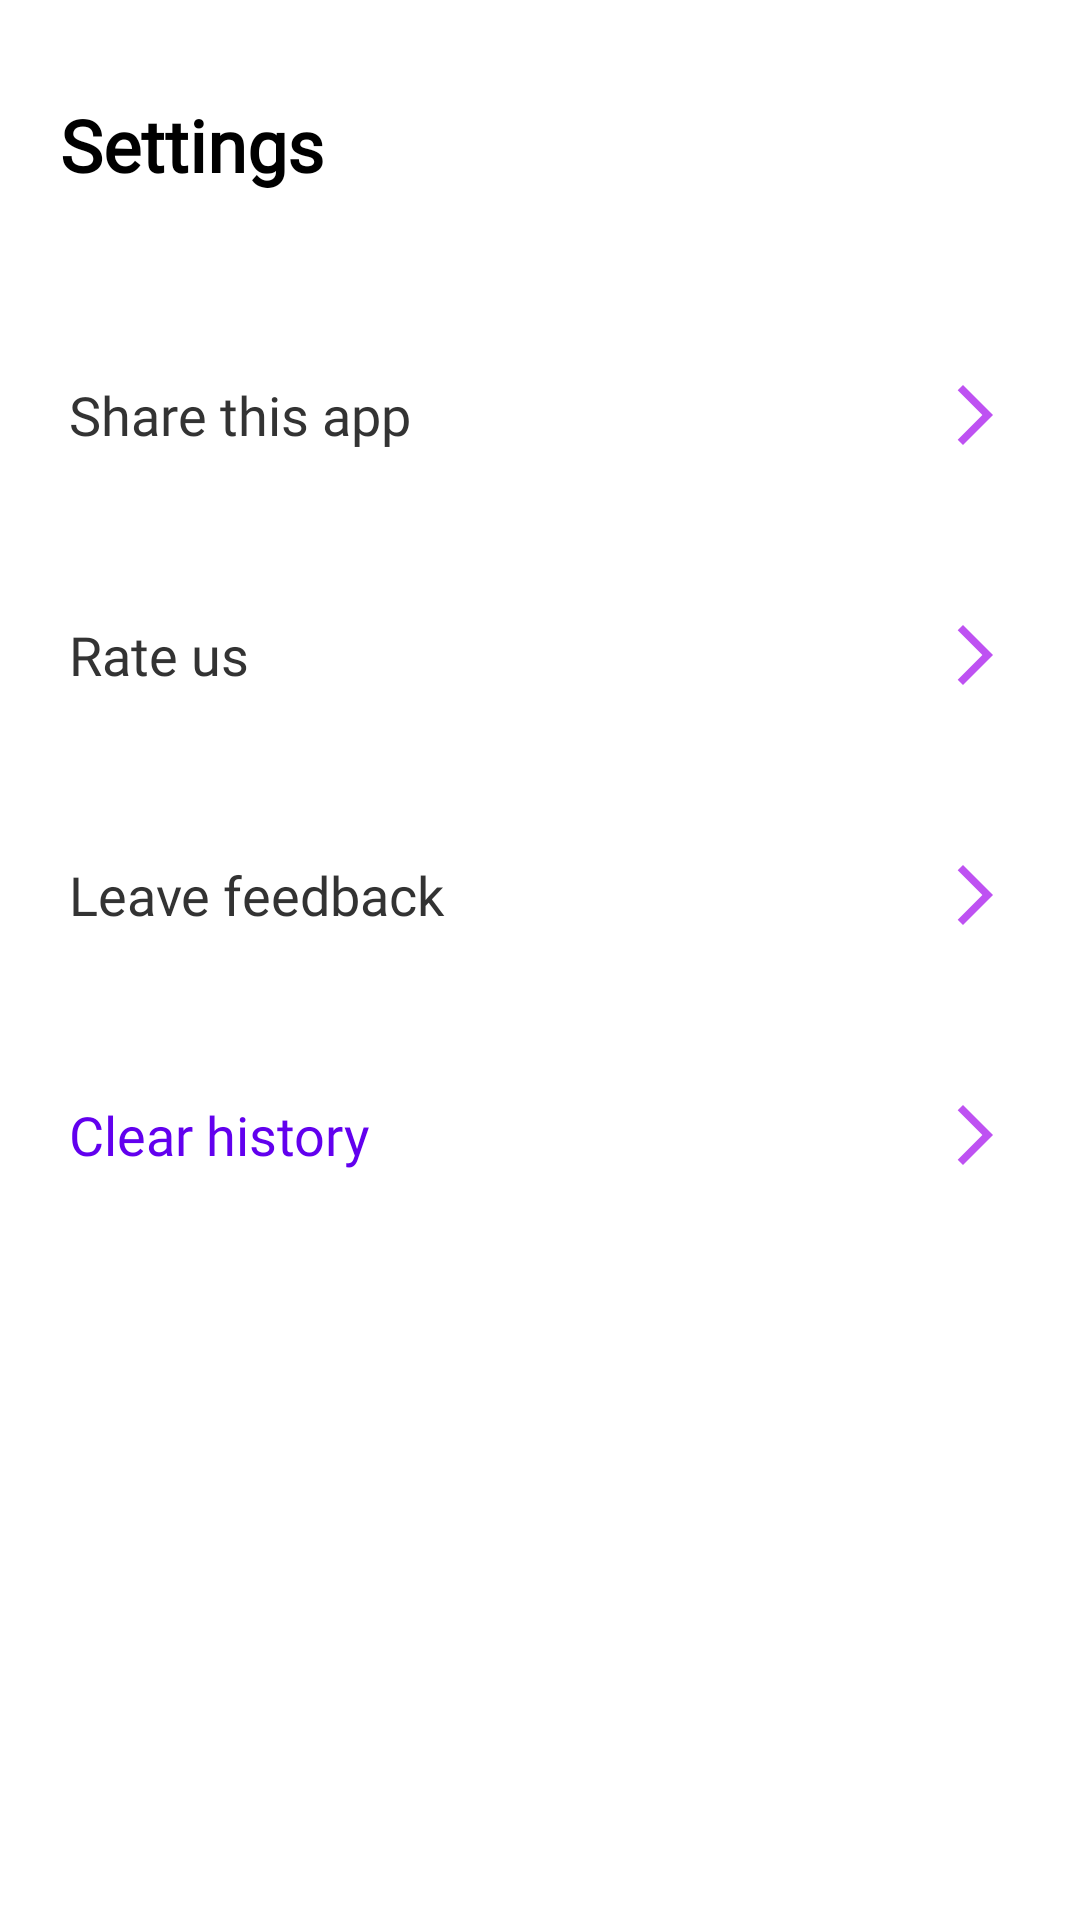

Icon click points for this 1080px x 1920px phone screenshot, format [x,y]:
arrow: [975,415]
